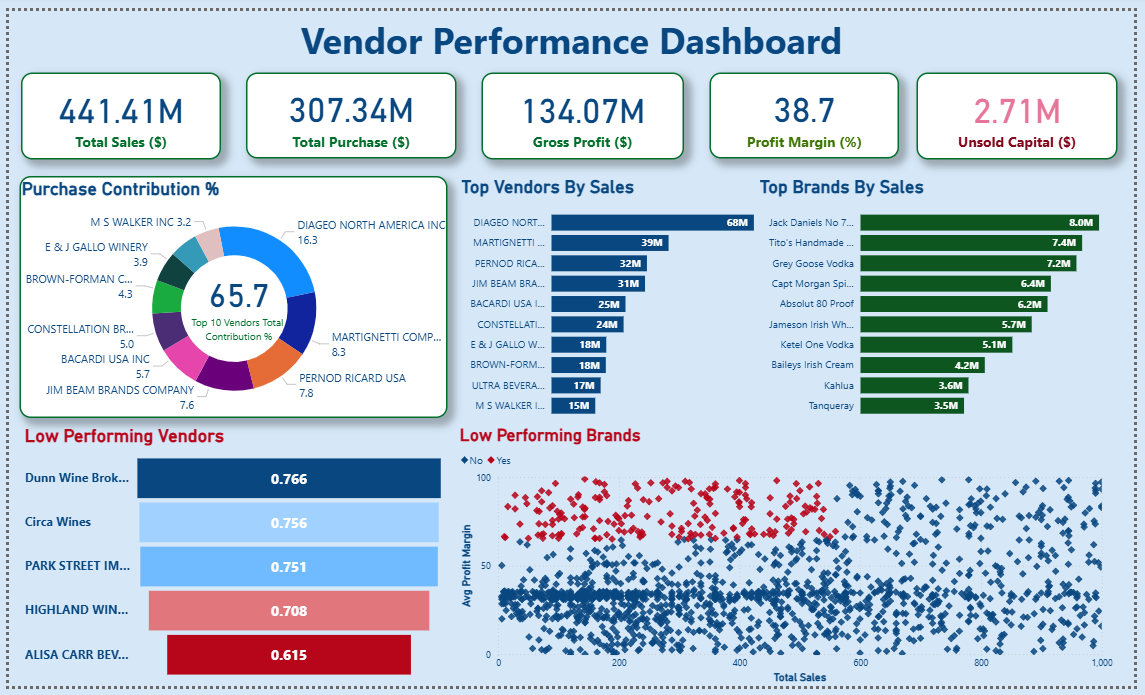

This screenshot's page, from the dashboard's own definition file:
{"tool":"powerbi","page":{"name":"Page 1","canvas":[1500,900],"ordinal":0},"visuals":[{"type":"card","fields":{"Values":["Sum(vendor_sales_summary.TotalPurchaseDollars)"]},"box":[315.8,82.4,280.9,114.6],"z":0},{"type":"card","fields":{"Values":["Sum(vendor_sales_summary.TotalSalesDollars)"]},"box":[16.8,81,266.9,116],"z":1000},{"type":"card","fields":{"Values":["Sum(vendor_sales_summary.GrossProfit)"]},"box":[630.2,81,269.7,116],"z":2000},{"type":"card","fields":{"Values":["Avg(vendor_sales_summary.ProfitMargin)"]},"box":[934.8,82.4,252.9,114.6],"z":3000},{"type":"card","fields":{"Values":["Sum(vendor_sales_summary.UnsoldCapital)"]},"box":[1210.1,81,268.3,116],"z":4000},{"type":"textbox","box":[0,0,1500,83],"z":5000},{"type":"donutChart","title":"Purchase Contribution % ","fields":{"Category":["PurchaseContribution.VendorName"],"Y":["Sum(PurchaseContribution.PurchaseContribution%)"]},"box":[14.5,219.4,571,322.6],"z":6000},{"type":"card","fields":{"Values":["Sum(PurchaseContribution.PurchaseContribution%)"]},"box":[211.8,266.7,188.2,233.3],"z":7000},{"type":"barChart","title":"Top Vendors By Sales","fields":{"Category":["vendor_sales_summary.VendorName"],"Y":["Sum(vendor_sales_summary.TotalSalesDollars)"]},"box":[597.3,219.2,447.9,332.9],"z":8000},{"type":"barChart","title":"Top Brands By Sales","fields":{"Category":["vendor_sales_summary.Description"],"Y":["Sum(vendor_sales_summary.TotalSalesDollars)"]},"box":[995.9,219.2,504.1,332.9],"z":9000},{"type":"funnel","title":"Low Performing Vendors","fields":{"Category":["LowTurnoverVendor.VendorName"],"Y":["Avg(LowTurnoverVendor.AvgStockTurnOver)"]},"box":[16.1,551.6,569.4,348.4],"z":10000},{"type":"scatterChart","title":"Low Performing Brands","fields":{"X":["Sum(BrandPerformance.TotalSales)"],"Y":["Sum(BrandPerformance.AvgProfitMargin)"],"Series":["BrandPerformance.TargetBrand"],"Category":["BrandPerformance.Description"]},"box":[596.8,551.6,880.6,348.4],"z":11000}]}

Visuals, with their boxes in screenshot pixels (x1, y1, x2, y2), scaled from the page's 1500x900 canvas onto the 1145x695 screenshot:
card - Sum(vendor_sales_summary.TotalPurchaseDollars): [241,64,455,152]
card - Sum(vendor_sales_summary.TotalSalesDollars): [13,63,217,152]
card - Sum(vendor_sales_summary.GrossProfit): [481,63,687,152]
card - Avg(vendor_sales_summary.ProfitMargin): [714,64,907,152]
card - Sum(vendor_sales_summary.UnsoldCapital): [924,63,1129,152]
textbox: [0,0,1144,64]
"Purchase Contribution % " donutChart: [11,169,447,419]
card - Sum(PurchaseContribution.PurchaseContribution%): [162,206,305,386]
"Top Vendors By Sales" barChart: [456,169,798,426]
"Top Brands By Sales" barChart: [760,169,1144,426]
"Low Performing Vendors" funnel: [12,426,447,694]
"Low Performing Brands" scatterChart: [456,426,1128,694]
